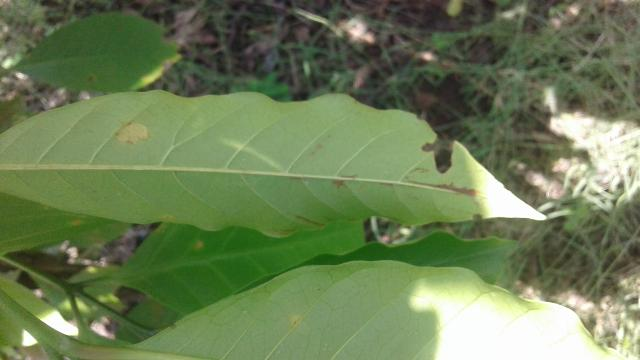rust_level_1: (0, 90, 547, 236)
